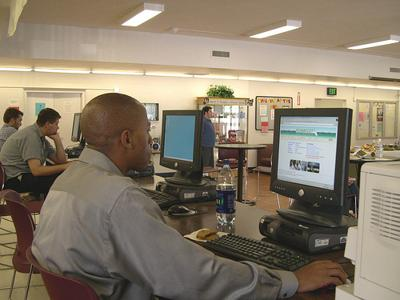person: (33, 93, 350, 300)
